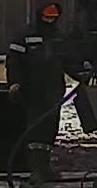gloves: (76, 68, 96, 83), (8, 83, 23, 98)
helmet: (41, 4, 62, 17)
vest: (9, 25, 67, 106)
